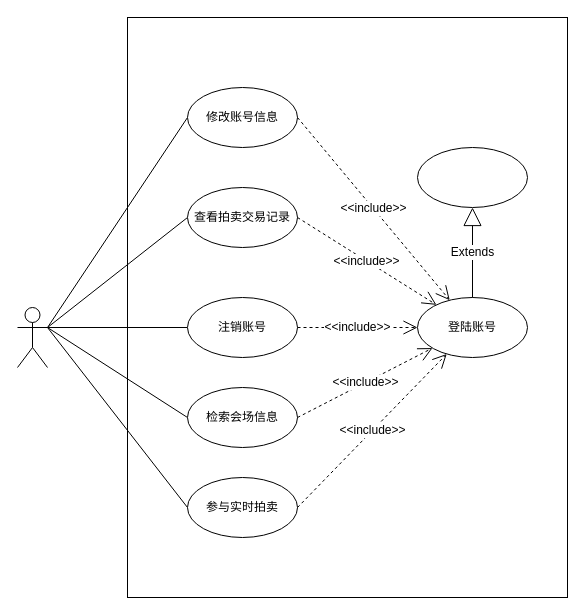
Image size: 585x615. Some labels were removed from this diagram. Here are the shapes that lost their labels. From the top down, the box of each, then its label:
(416, 146, 528, 208): 注册账号
(16, 306, 48, 368): 客户
